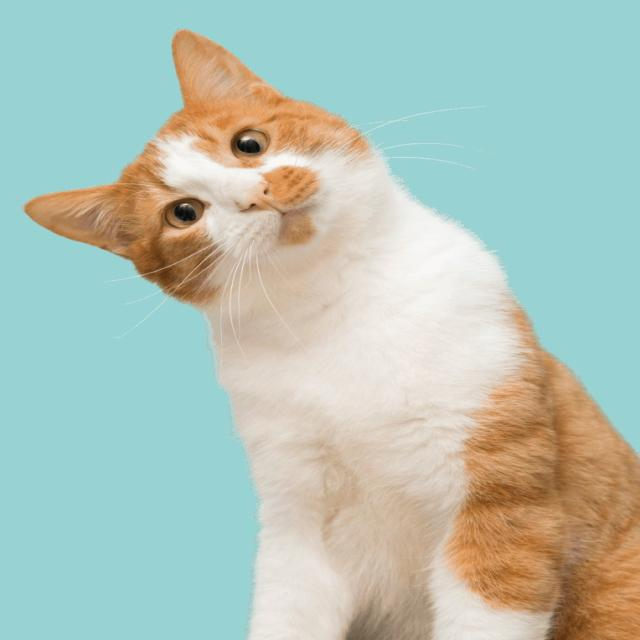cat: (59, 74, 446, 355)
